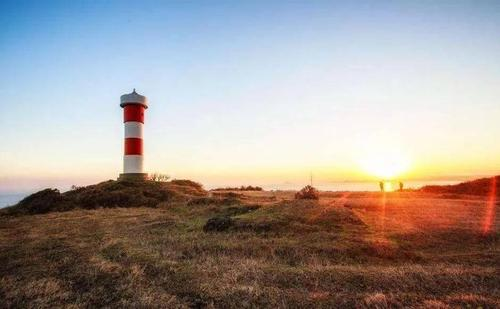mountain: (9, 185, 388, 296)
